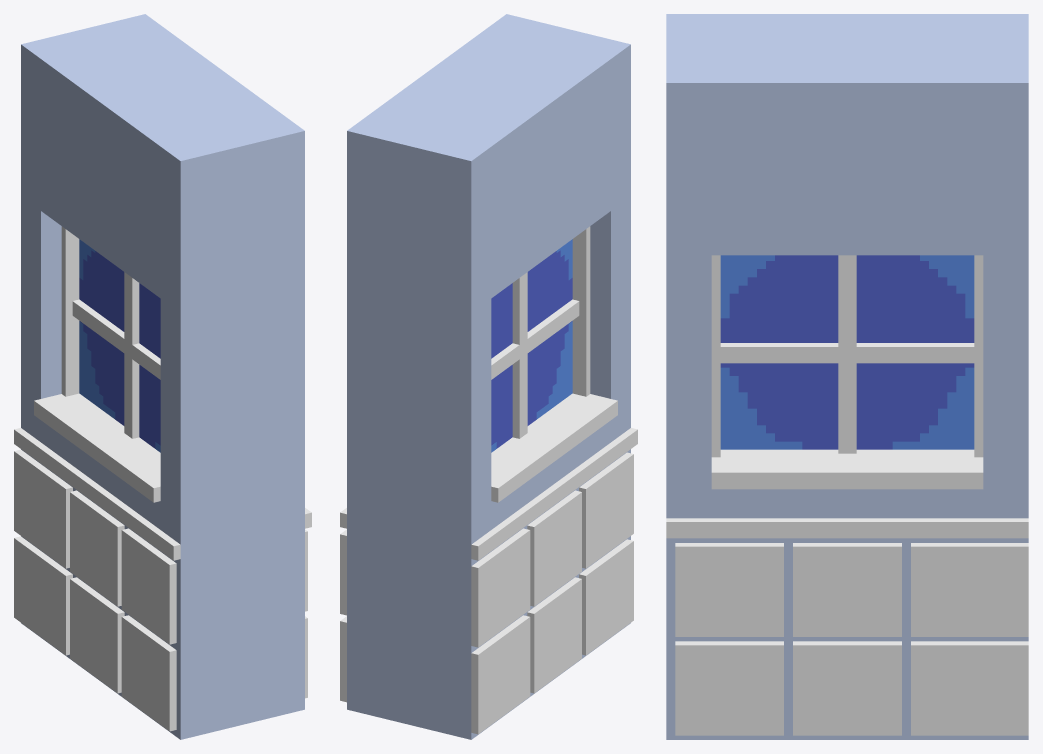
The model's file is wall_with_window.obj.
3 renders of one model, left to right at view 1: azimuth 30°, elevation 25°; view 2: azimuth 150°, elevation 25°; view 3: azimuth 270°, elevation 25°, orthographic. The views are drawn at different scales.
Parts seen in each view (by area): view 1: wall_with_window; view 2: wall_with_window; view 3: wall_with_window.
Part boxes in pixels (left/top/right/bottom): wall_with_window: left=14, top=14, right=311, bottom=739; wall_with_window: left=340, top=14, right=637, bottom=739; wall_with_window: left=666, top=14, right=1028, bottom=739.
Bounding box in the file's own units: 20 × 80 × 40.
Materials: 1 (1 with a texture image).
